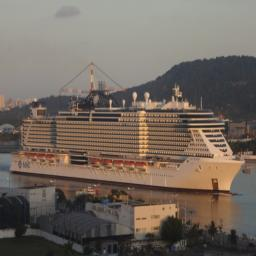cruises: (8, 82, 248, 199)
